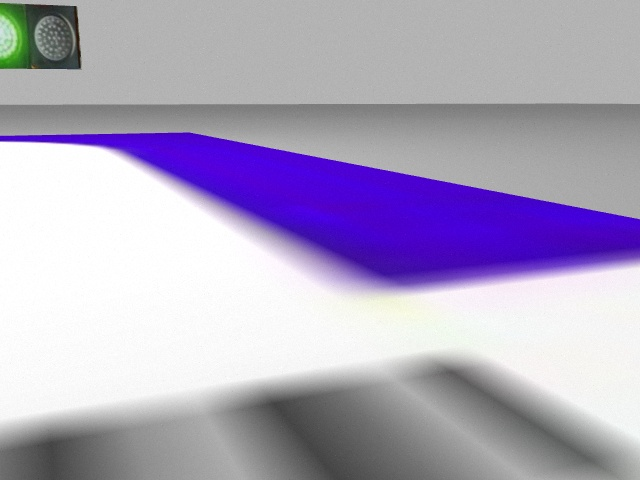green: (1, 4, 26, 66)
